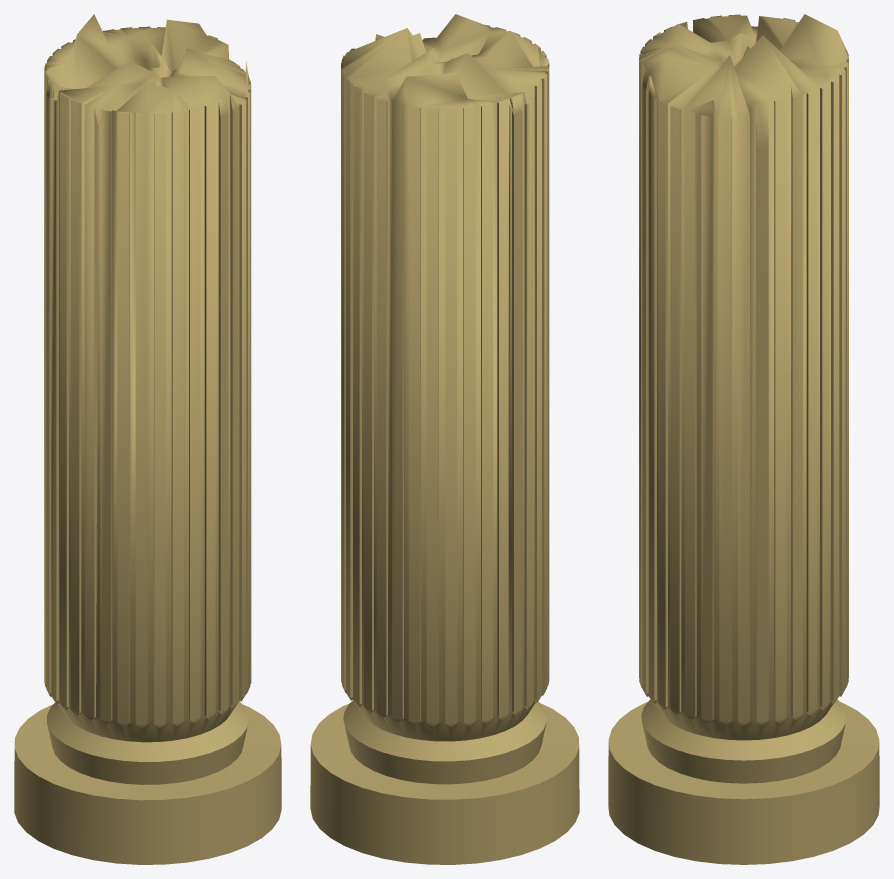
The model's file is Broken_pillar.FBX.
3 renders of one model, left to right at view 1: azimuth 30°, elevation 25°; view 2: azimuth 150°, elevation 25°; view 3: azimuth 270°, elevation 25°, orthographic.
Parts seen in each view (by area): view 1: Cylinder001; view 2: Cylinder001; view 3: Cylinder001.
Part boxes in pixels (x1,y1,x2,y2): Cylinder001: [14, 14, 281, 864]; Cylinder001: [310, 14, 579, 864]; Cylinder001: [608, 14, 879, 864].
Size of the model in its own units: 31.18 by 99.74 by 31.21.
